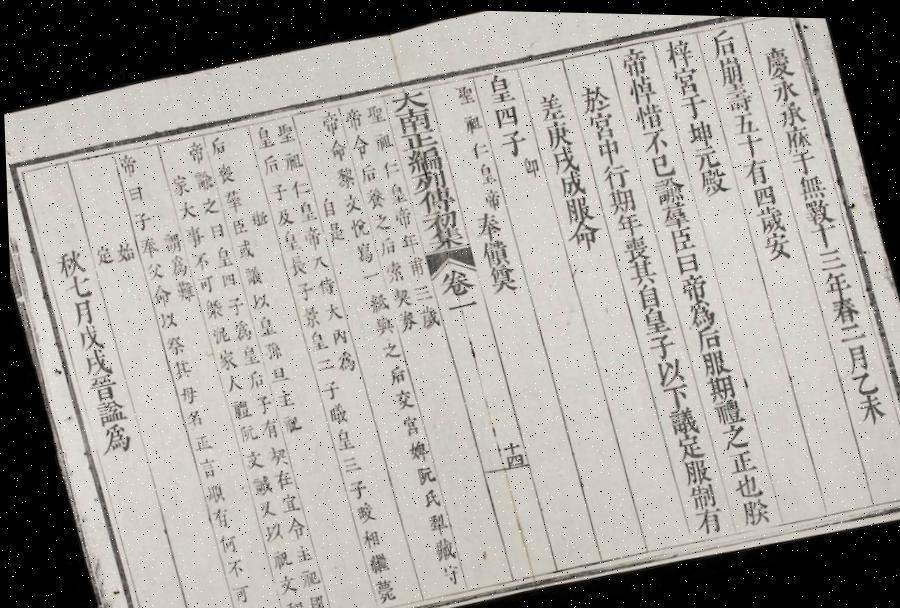c: (432, 262, 476, 300), (758, 37, 798, 78), (91, 419, 133, 457), (400, 143, 445, 177), (562, 214, 603, 250), (574, 76, 613, 113), (391, 103, 434, 136), (412, 183, 455, 216), (850, 386, 888, 423), (480, 68, 518, 105), (658, 32, 697, 68), (614, 41, 653, 77), (481, 259, 520, 295), (680, 292, 718, 328), (732, 490, 770, 526), (823, 288, 861, 324), (385, 84, 430, 114), (467, 205, 504, 241), (692, 161, 730, 196), (48, 244, 86, 279), (538, 114, 576, 149), (622, 69, 660, 104), (660, 400, 698, 435), (703, 22, 741, 57), (718, 78, 756, 113), (80, 370, 119, 404), (532, 86, 568, 122), (711, 50, 748, 85), (667, 61, 704, 96), (699, 368, 737, 402), (756, 226, 794, 260), (648, 170, 686, 204), (628, 96, 666, 130), (797, 191, 835, 225), (86, 395, 126, 427), (475, 233, 512, 267), (595, 156, 632, 190), (712, 416, 749, 450), (750, 199, 787, 233), (686, 500, 723, 534), (816, 263, 854, 296), (74, 345, 112, 378), (422, 223, 465, 252), (406, 166, 450, 194), (673, 268, 709, 302), (558, 190, 594, 224), (649, 352, 685, 386), (791, 167, 828, 200), (621, 253, 658, 286), (764, 70, 802, 102), (56, 270, 94, 302), (706, 392, 744, 424), (417, 206, 460, 234), (495, 124, 530, 158), (583, 106, 618, 140), (396, 125, 440, 152), (602, 181, 638, 214), (680, 113, 716, 146), (737, 152, 773, 185), (674, 452, 710, 485), (725, 466, 762, 498), (641, 327, 678, 359), (772, 94, 809, 126), (674, 87, 711, 119), (693, 343, 730, 375), (635, 301, 670, 334), (546, 142, 582, 174), (778, 118, 814, 150), (656, 196, 692, 228), (662, 220, 698, 252), (838, 336, 871, 370), (440, 293, 480, 321), (616, 229, 651, 261), (687, 138, 722, 170), (69, 320, 104, 352), (668, 428, 704, 459), (64, 294, 96, 328), (785, 143, 820, 174), (553, 166, 588, 197), (681, 478, 716, 509), (732, 128, 768, 158), (720, 443, 756, 473), (644, 147, 678, 178), (590, 133, 624, 164), (805, 217, 840, 247), (688, 320, 723, 350), (726, 105, 761, 135), (609, 207, 644, 237), (811, 241, 847, 270), (637, 124, 671, 154), (656, 378, 690, 408), (630, 277, 662, 308), (365, 572, 396, 604), (489, 100, 522, 130), (745, 177, 779, 206), (845, 364, 877, 394), (423, 532, 454, 562), (358, 545, 389, 575), (832, 316, 867, 342), (668, 246, 700, 274), (418, 508, 448, 536), (432, 558, 461, 586), (413, 301, 441, 330), (347, 496, 375, 524), (354, 522, 382, 550), (270, 118, 298, 146), (315, 108, 343, 136), (190, 452, 217, 481), (346, 130, 372, 160), (250, 311, 278, 338), (386, 384, 414, 411), (223, 394, 251, 421), (210, 344, 238, 371), (450, 79, 478, 106), (323, 136, 350, 164), (230, 234, 257, 262), (277, 512, 304, 540), (217, 186, 244, 214), (320, 398, 348, 425), (294, 301, 322, 328), (330, 162, 357, 190), (328, 422, 354, 451), (297, 221, 323, 250), (380, 255, 406, 284), (340, 102, 365, 132), (168, 276, 195, 303), (218, 553, 245, 580), (197, 478, 224, 505), (112, 150, 139, 177), (198, 294, 225, 321), (133, 232, 160, 259), (179, 221, 206, 248), (368, 311, 395, 338), (187, 165, 214, 192), (362, 288, 390, 314), (282, 250, 308, 278), (290, 563, 318, 589), (262, 544, 290, 570), (471, 158, 497, 186), (401, 252, 427, 280), (244, 470, 272, 496), (292, 196, 318, 224), (400, 436, 428, 462), (250, 121, 275, 150), (166, 355, 193, 381), (210, 159, 236, 186), (166, 170, 192, 197), (157, 228, 183, 255), (146, 280, 172, 307), (394, 410, 420, 437), (388, 203, 414, 230), (361, 183, 387, 210), (350, 238, 376, 265), (162, 252, 188, 278), (210, 528, 236, 554), (238, 261, 264, 287), (128, 206, 154, 232), (380, 360, 406, 386), (172, 196, 198, 222), (361, 100, 387, 126), (278, 147, 304, 173), (256, 336, 282, 362), (160, 330, 186, 356), (272, 488, 298, 514), (204, 320, 230, 346), (458, 109, 484, 135), (344, 213, 370, 239), (386, 283, 412, 309), (277, 226, 302, 253), (208, 241, 233, 268), (268, 384, 295, 409), (227, 315, 252, 342), (303, 325, 328, 352), (260, 440, 285, 467), (284, 174, 312, 198), (222, 580, 250, 604), (182, 137, 206, 165), (265, 177, 290, 203), (517, 152, 542, 178), (240, 364, 265, 390), (204, 132, 229, 158), (274, 409, 300, 434), (330, 347, 355, 373), (321, 217, 346, 243), (314, 376, 340, 401), (237, 446, 263, 471), (110, 238, 136, 263), (342, 474, 368, 499), (266, 464, 291, 490), (269, 569, 295, 594), (204, 502, 229, 528), (393, 306, 418, 332), (337, 189, 362, 215), (244, 288, 271, 312), (256, 518, 283, 542), (478, 184, 502, 211), (464, 136, 491, 160), (376, 154, 401, 179), (414, 483, 439, 508), (152, 306, 178, 330), (234, 340, 258, 366), (248, 389, 272, 415), (172, 382, 198, 406), (408, 460, 434, 484), (231, 420, 257, 444), (258, 150, 282, 176), (383, 179, 407, 205), (368, 128, 394, 152), (334, 450, 361, 473), (184, 429, 211, 452), (89, 241, 113, 266), (286, 539, 310, 564), (375, 337, 400, 361), (312, 272, 336, 297), (373, 232, 397, 257), (317, 298, 342, 322), (254, 414, 277, 440), (291, 276, 314, 302), (221, 291, 244, 317), (262, 360, 288, 383), (356, 160, 379, 186), (396, 228, 420, 252), (218, 371, 242, 395), (196, 192, 220, 216), (186, 248, 210, 272), (368, 208, 392, 232), (407, 279, 432, 302), (316, 192, 338, 218), (324, 323, 348, 346), (192, 272, 216, 295), (271, 204, 294, 228), (250, 496, 274, 519), (180, 405, 202, 430), (309, 351, 334, 373), (214, 268, 238, 290), (142, 257, 164, 281), (225, 214, 248, 236), (245, 206, 269, 227), (305, 250, 328, 271), (356, 265, 380, 285), (300, 589, 324, 608), (204, 220, 226, 240), (123, 183, 144, 202), (496, 436, 518, 454), (276, 595, 304, 608), (499, 449, 520, 466), (228, 603, 258, 608)
